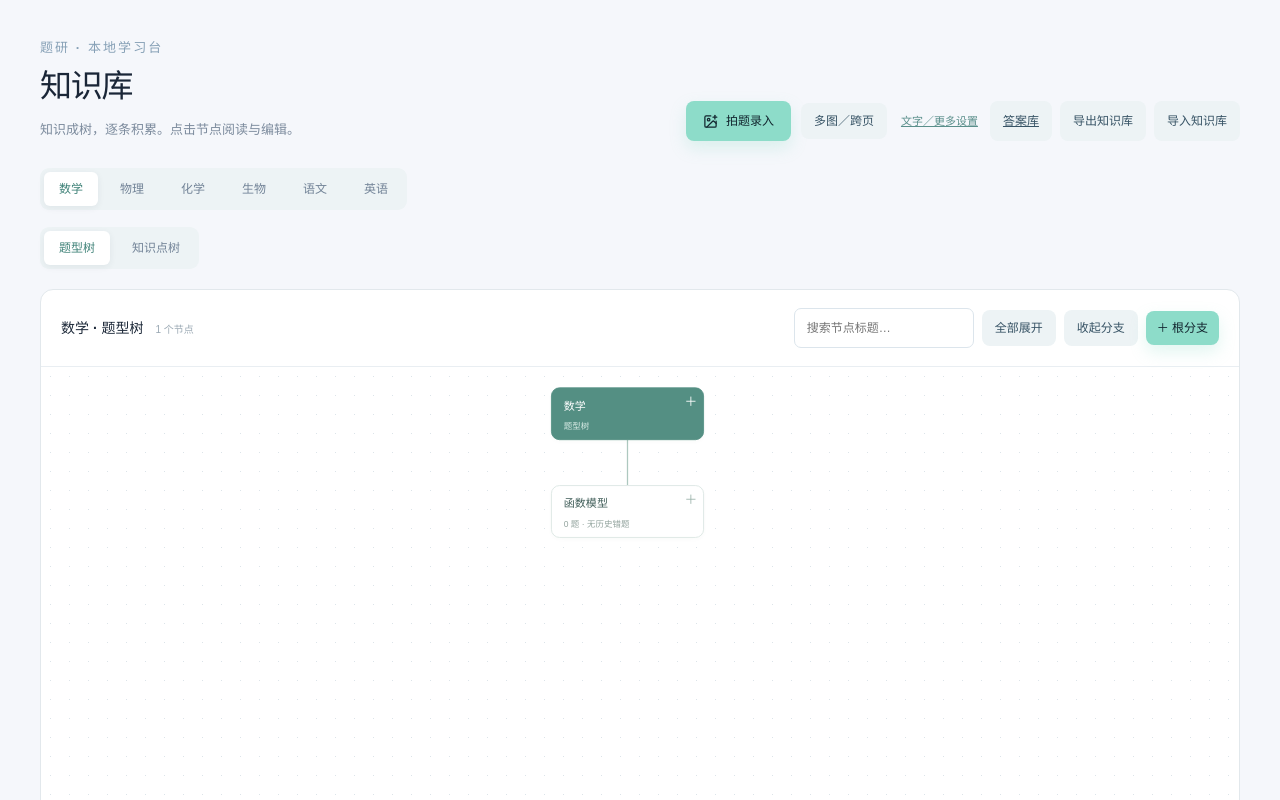
Test: persistent knowledge workspace › uses server facets and an exact tag query for the question pool
The width and height of the screenshot is (1280, 800).
Click the button named "阅读函数模型" at (627, 512), box [552, 486, 703, 537]
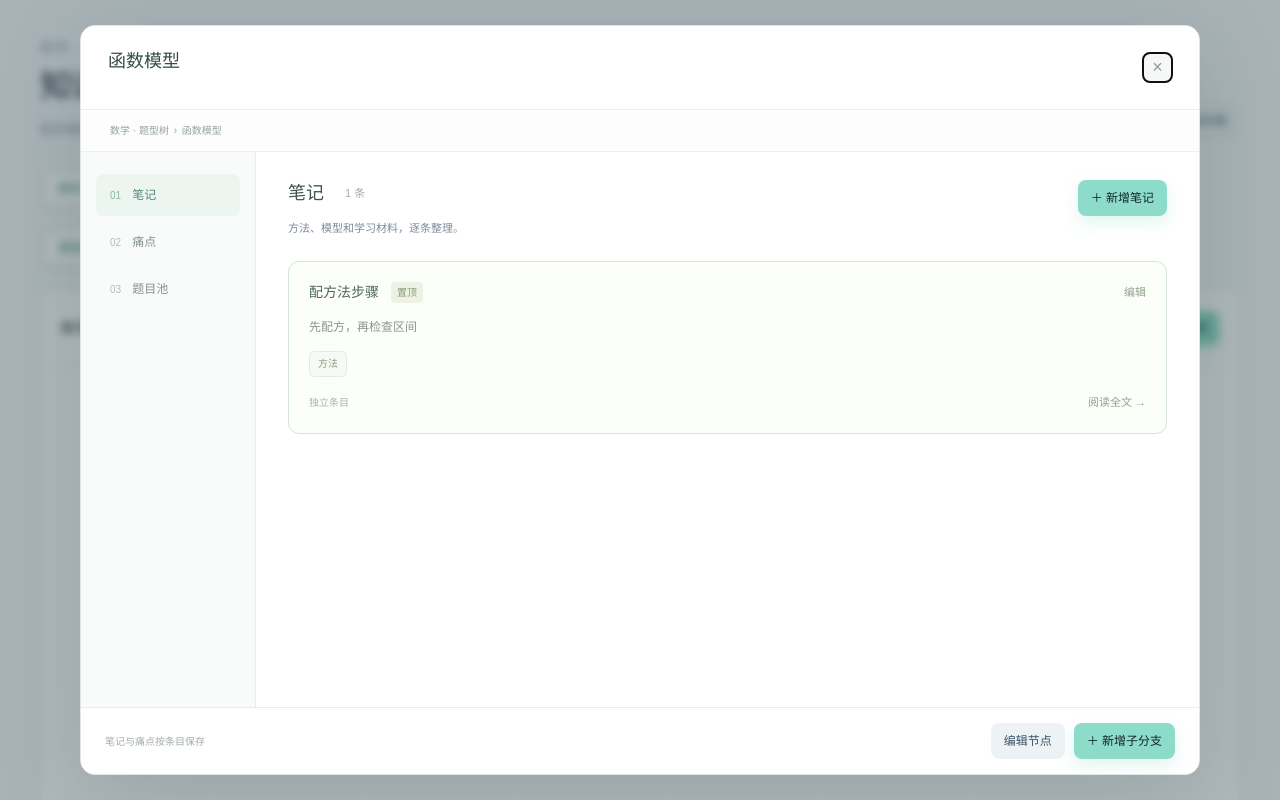
Click the tab "03 题目池" at (168, 289), box [96, 268, 240, 310]
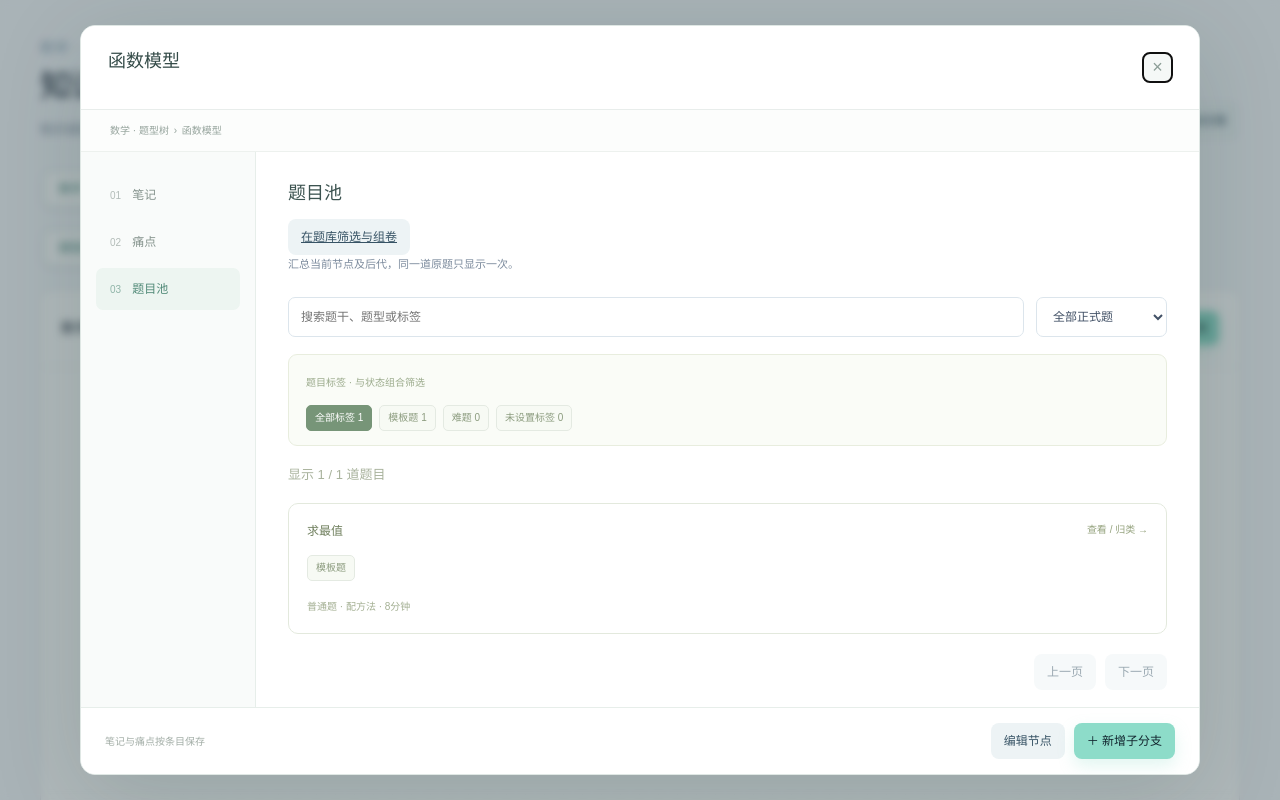
Click the button "难题 0" at (466, 418), box [443, 405, 489, 431]
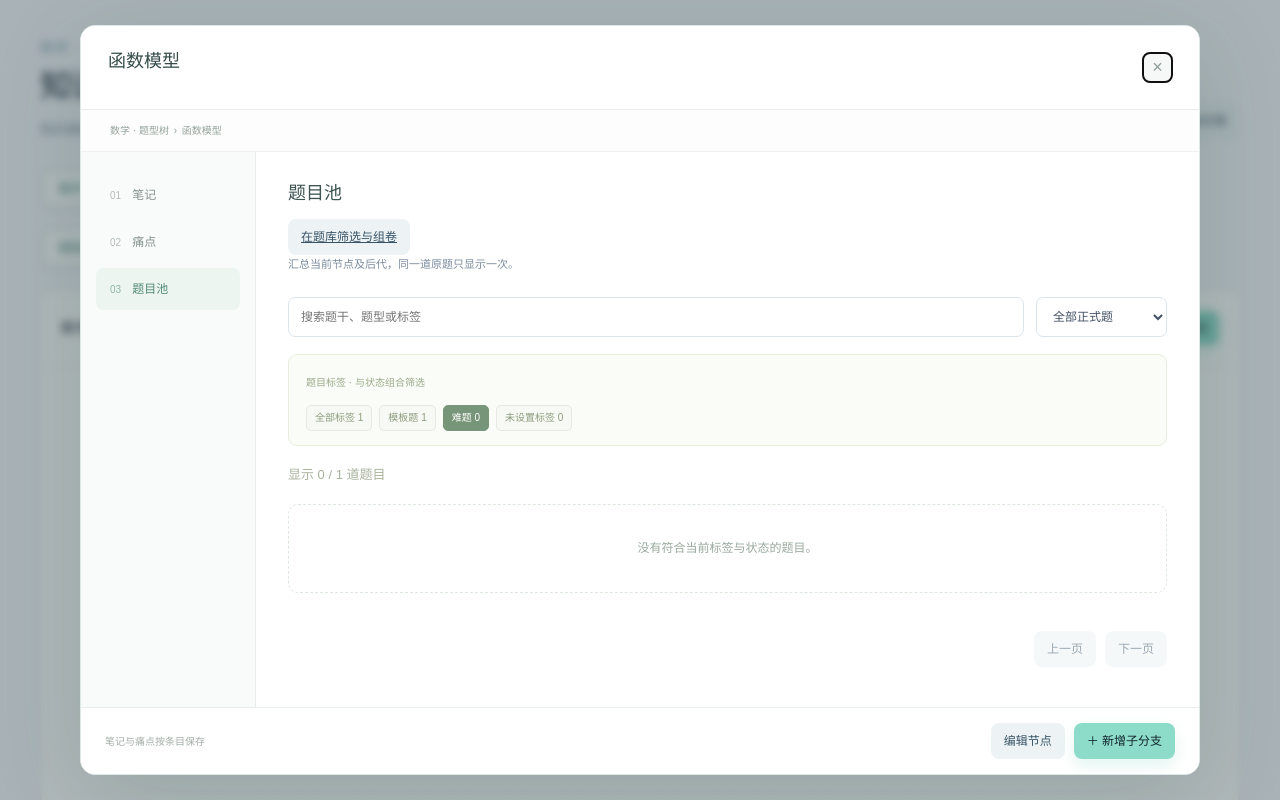
Expected: the text "没有符合当前标签与状态的题目。" is shown, [288, 504, 1167, 593]
